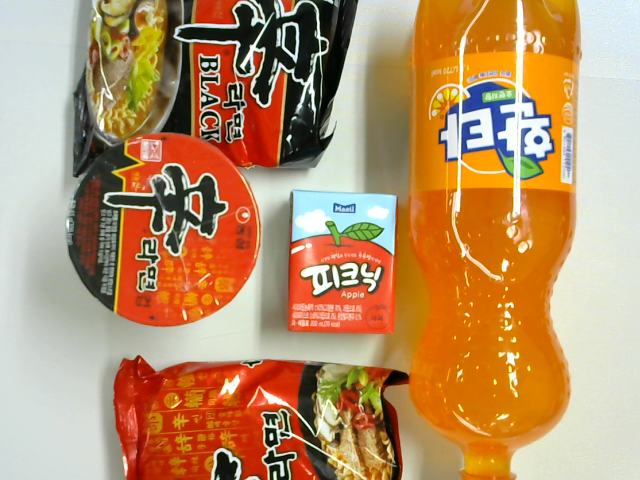Hwanta_Orange_1.5L: (410, 1, 582, 478)
Picnic_Apple: (289, 190, 399, 335)
Sinramen: (113, 355, 412, 480)
Sinramen_Black: (71, 1, 358, 178)
Sinramen_small: (67, 133, 260, 328)
